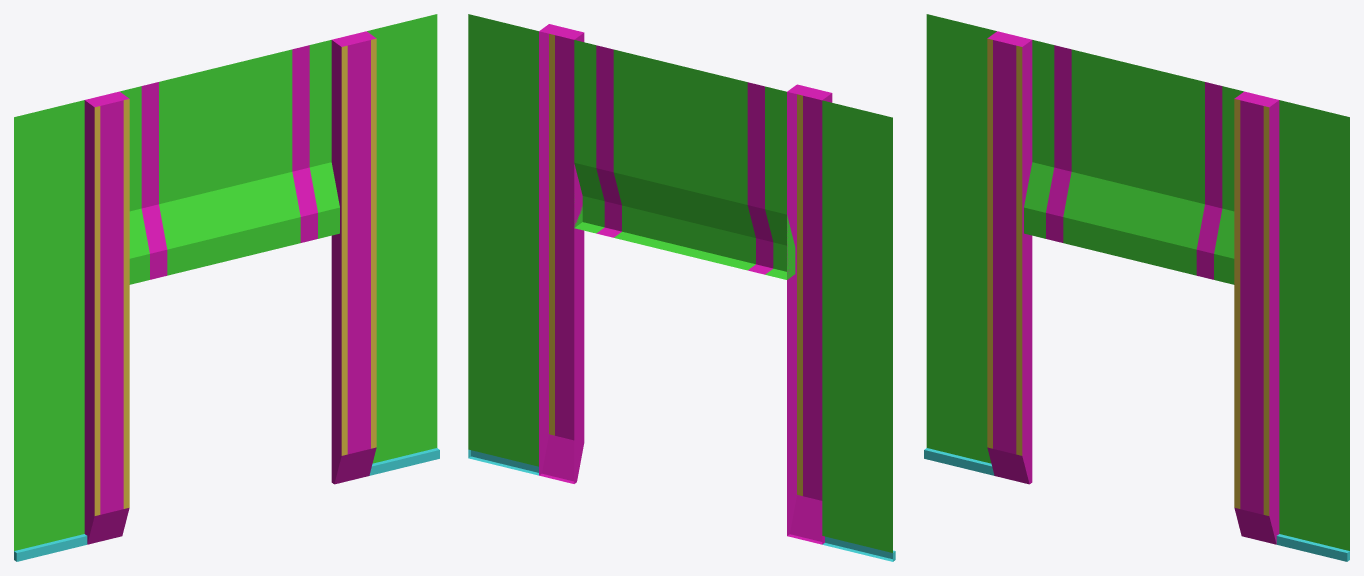
File: Wall_50_Door_B.fbx
The picture shows the model from 3 angles, left to right: view 1: azimuth 30°, elevation 25°; view 2: azimuth 150°, elevation 25°; view 3: azimuth 330°, elevation 25°; orthographic projection.
Parts seen in each view (by area): view 1: Wall_50_Door_B; view 2: Wall_50_Door_B; view 3: Wall_50_Door_B.
Part boxes in pixels (x1,y1,x2,y2): Wall_50_Door_B: [14, 14, 439, 561]; Wall_50_Door_B: [468, 14, 895, 561]; Wall_50_Door_B: [924, 14, 1349, 561].
Size of the model in its own units: 457 by 457 by 18.74.
